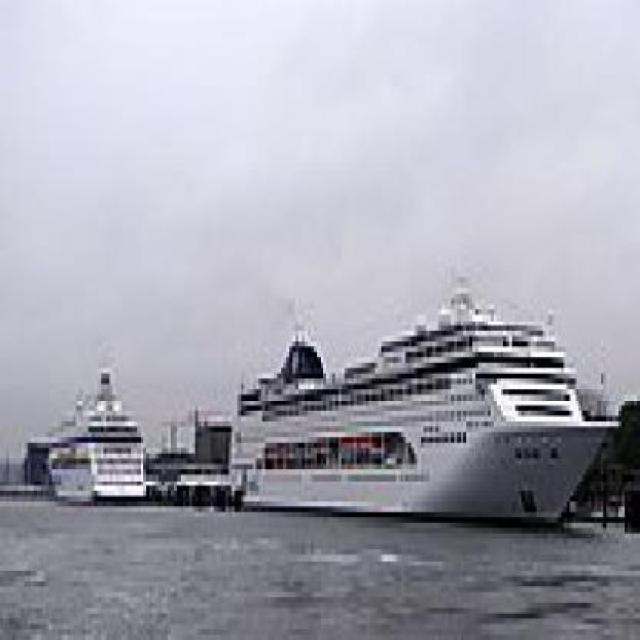cruise: (227, 267, 630, 540)
